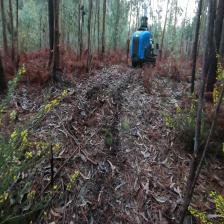trunktrack_idkeyframe: (189, 3, 216, 179), (50, 0, 59, 73), (101, 0, 107, 54)
